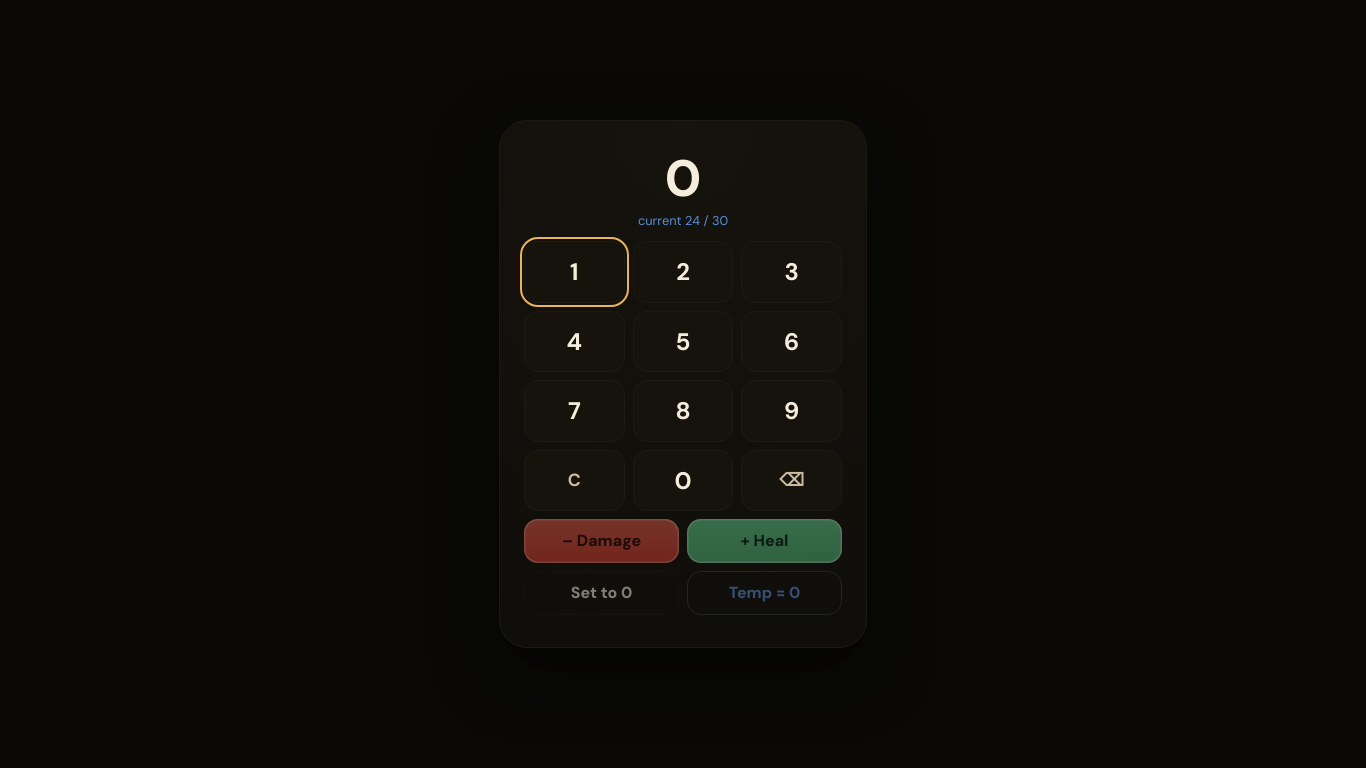
HpKeypad › clear empties the amount
Step 1. Click the button "1" → click(574, 272), box [524, 241, 625, 303]
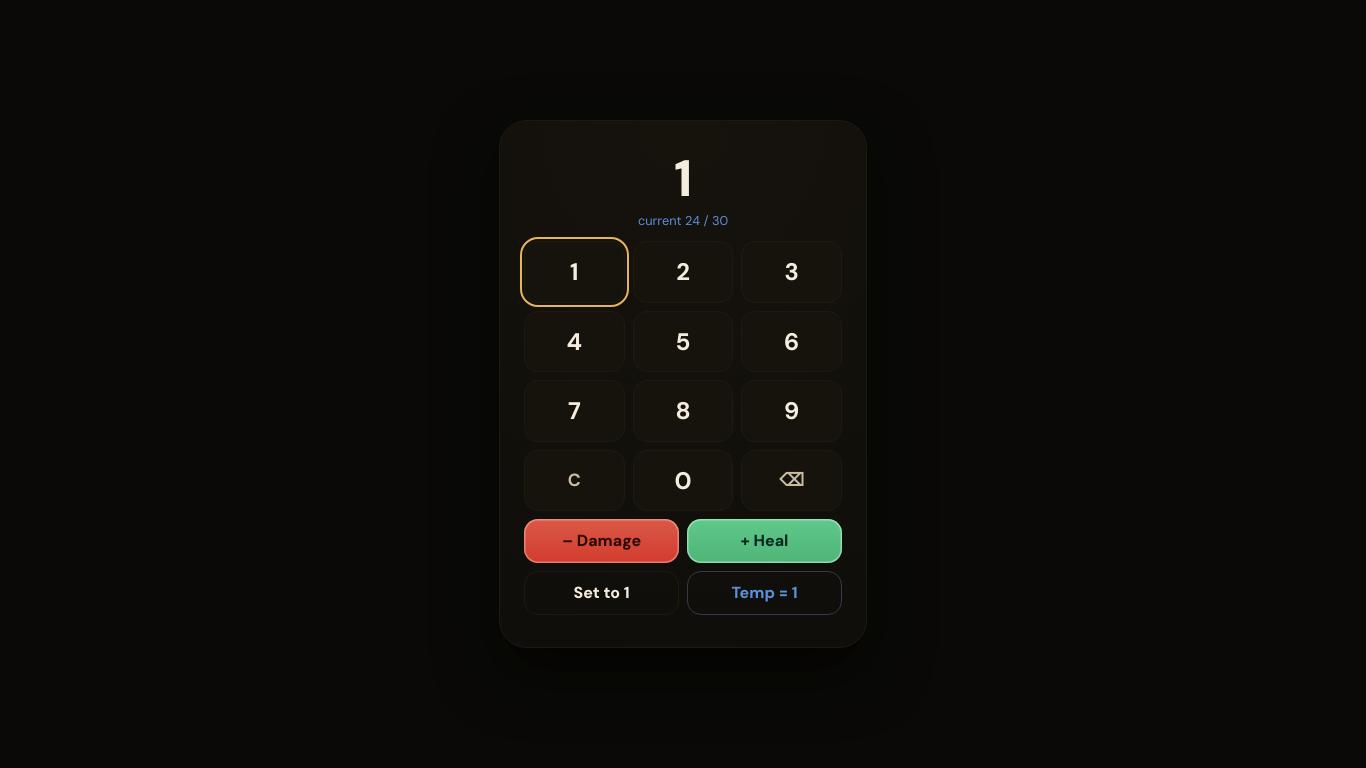
Step 2. Click the button "2" → click(683, 272), box [633, 241, 733, 303]
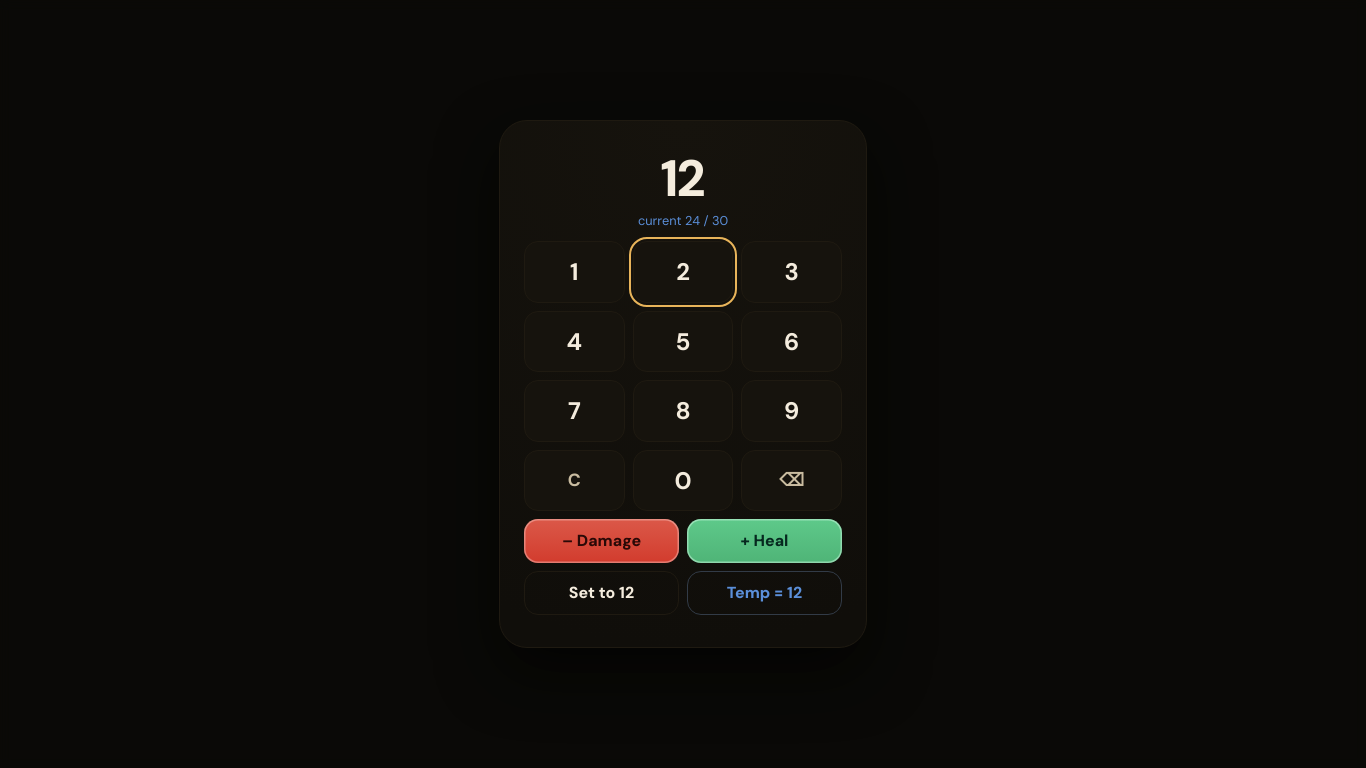
Step 3. Click the button "3" → click(792, 272), box [741, 241, 842, 303]
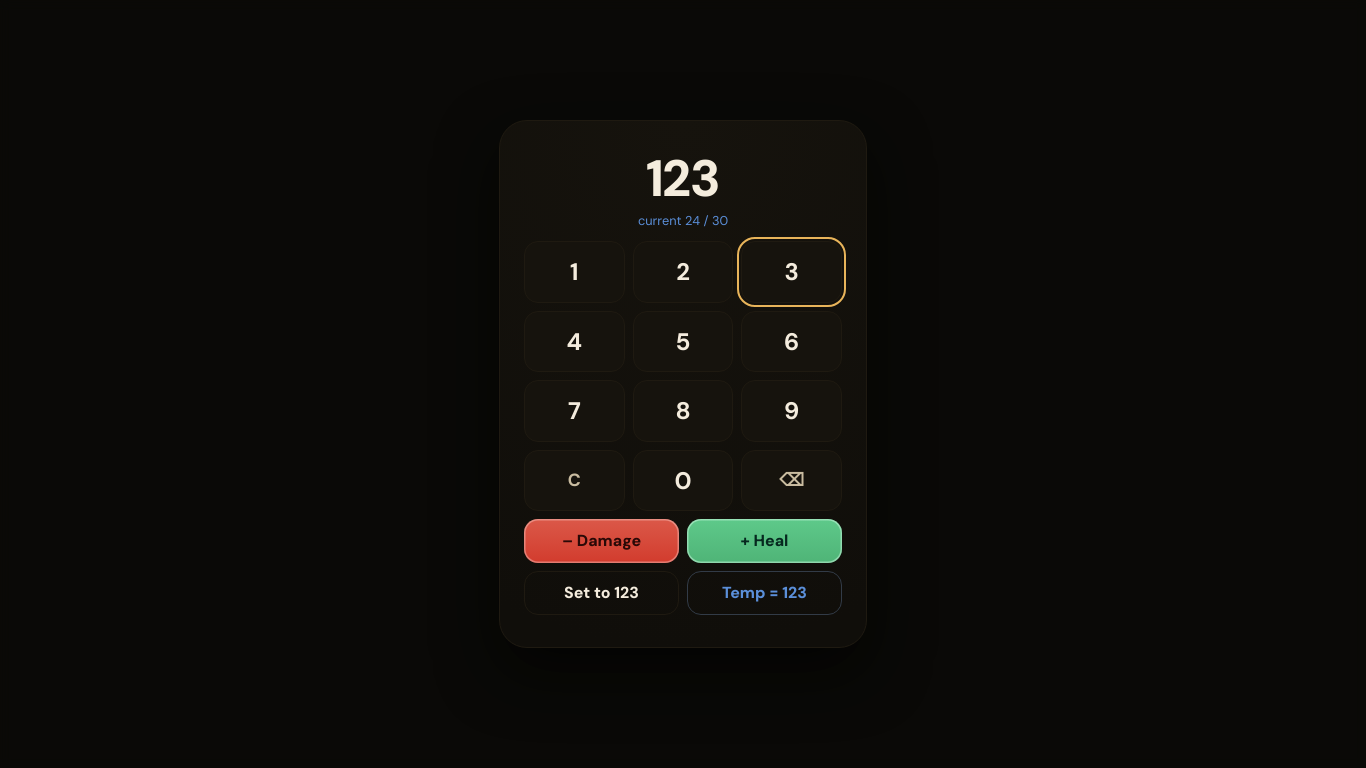
Step 4. Click the button named "clear" → click(574, 480), box [524, 450, 625, 511]
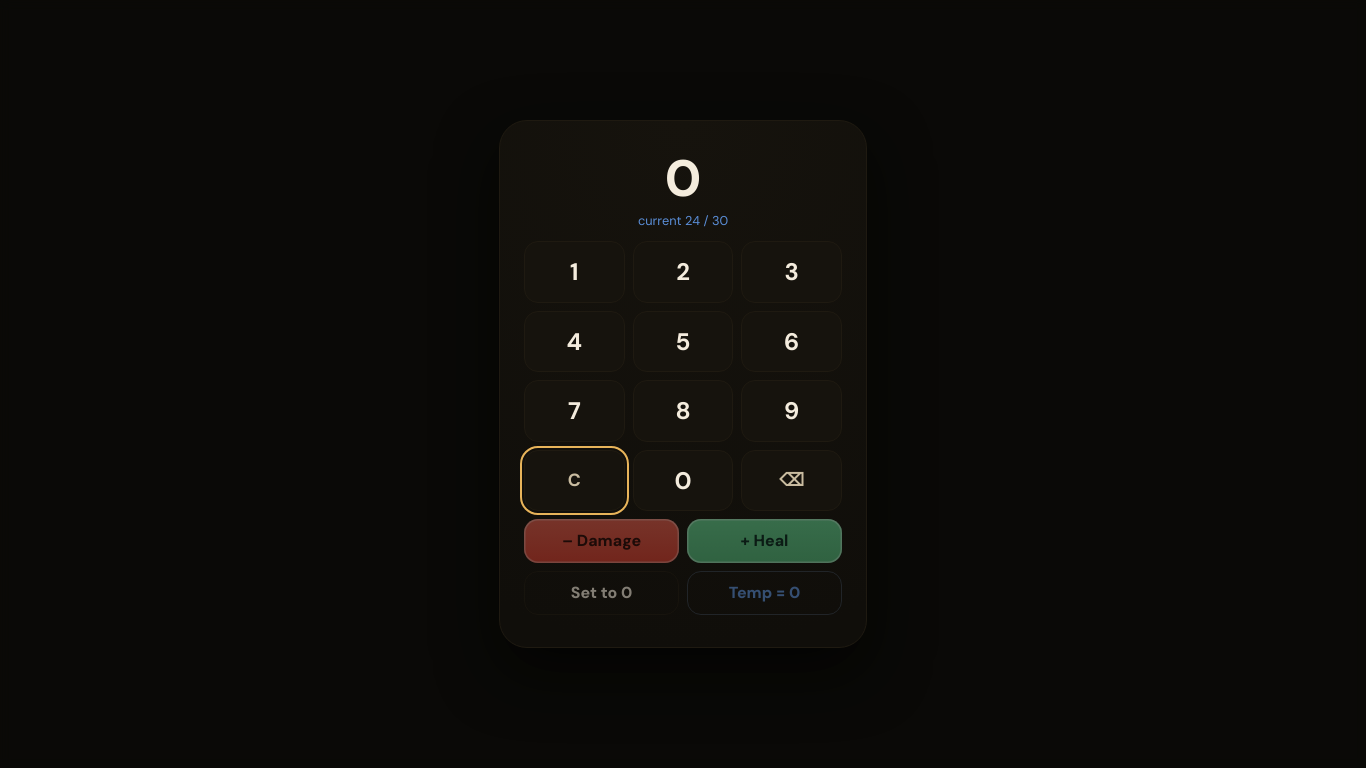
Now the text with test id "keypad-amount" reads "0", box [665, 145, 701, 212]
